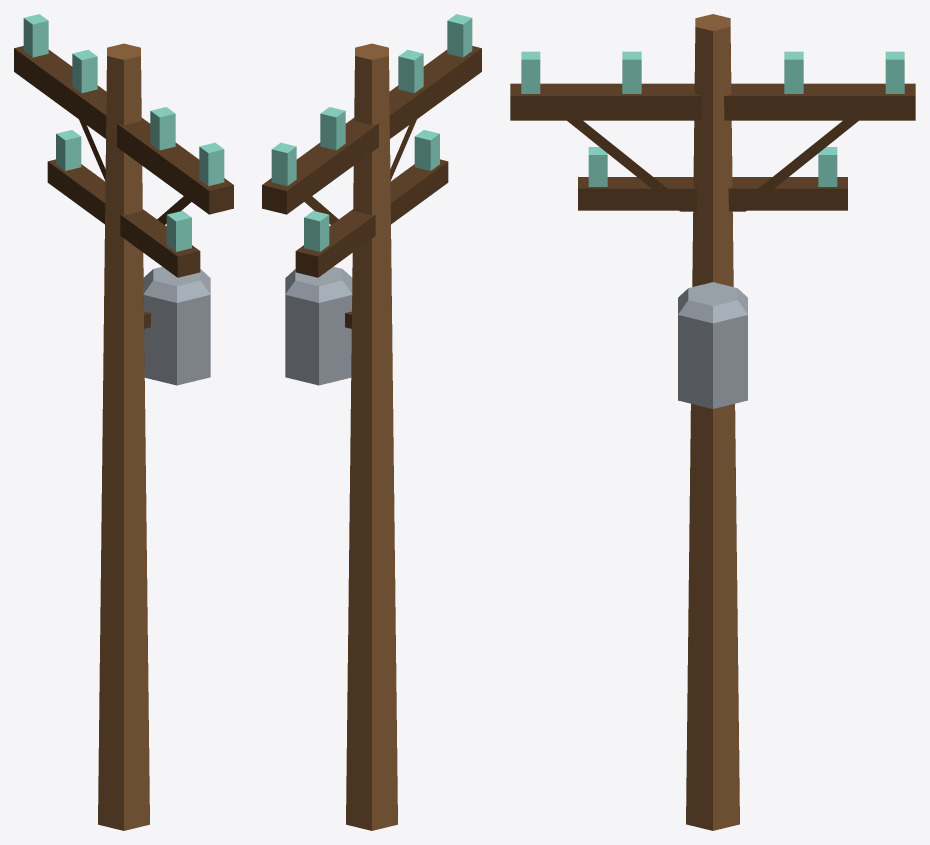
The model's file is power_pole.glb.
3 renders of one model, left to right at view 1: azimuth 30°, elevation 25°; view 2: azimuth 150°, elevation 25°; view 3: azimuth 270°, elevation 25°, orthographic. The views are drawn at different scales.
Visible parts, largest first — view 1: power_pole; view 2: power_pole; view 3: power_pole.
Part boxes in pixels (x1,y1,x2,y2): power_pole: (14,14,233,830); power_pole: (262,14,481,830); power_pole: (510,14,915,830).
Bounding box in the file's own units: 0.1 × 0.65 × 0.3.
